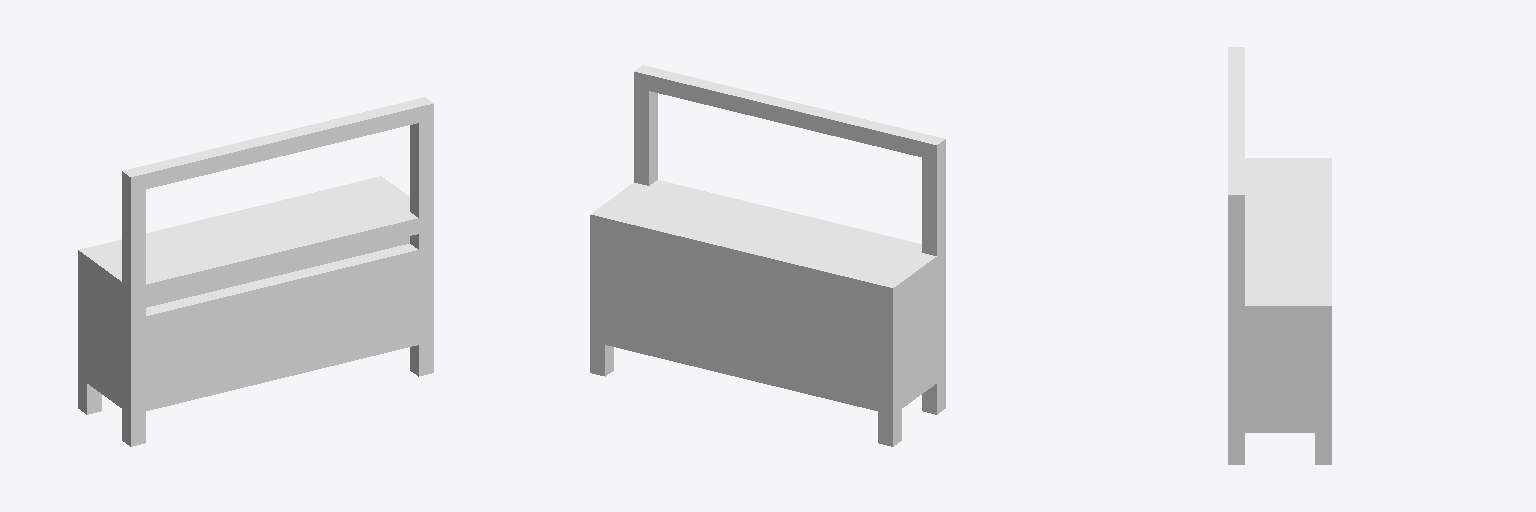
The model's file is stand2.obj.
3 views of the same model, side by side, from view 1: azimuth 30°, elevation 25°; view 2: azimuth 150°, elevation 25°; view 3: azimuth 270°, elevation 25° (orthographic).
Parts seen in each view (by area): view 1: stand2; view 2: stand2; view 3: stand2.
Part boxes in pixels (x1,y1,x2,y2): stand2: (78, 97, 433, 446); stand2: (590, 65, 945, 446); stand2: (1228, 47, 1331, 464).
Bounding box in the file's own units: 40 × 34 × 12.